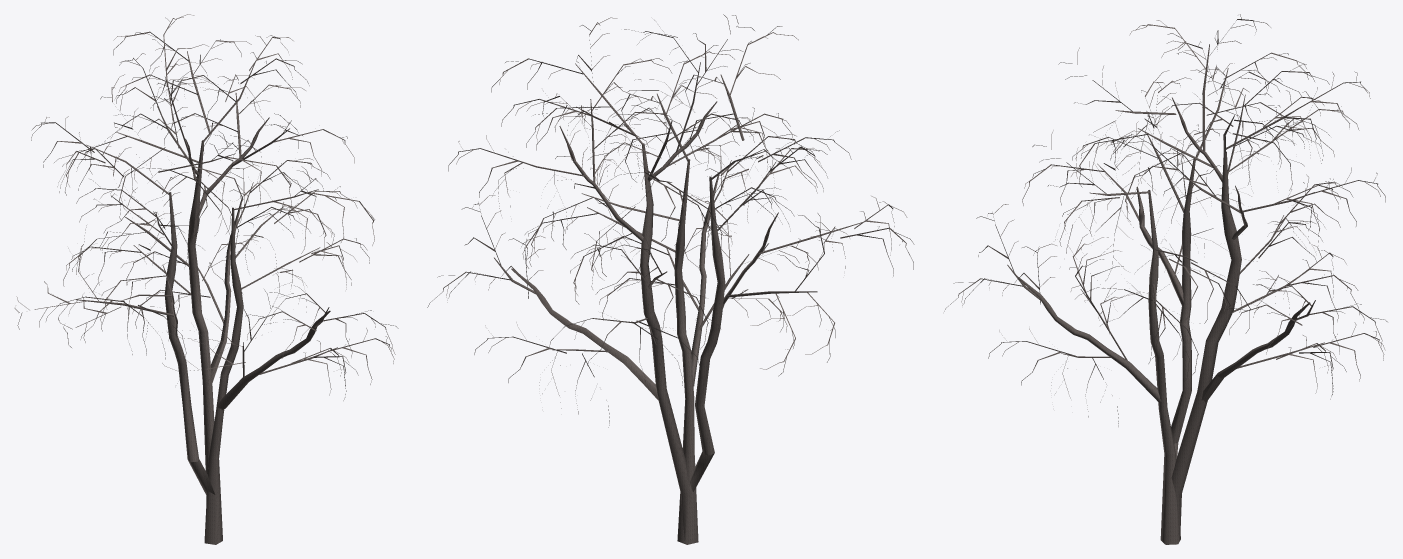
File: tree_branches.obj
The picture shows the model from 3 angles, left to right: view 1: azimuth 30°, elevation 25°; view 2: azimuth 150°, elevation 25°; view 3: azimuth 270°, elevation 25°; orthographic projection. The views are drawn at different scales.
Parts seen in each view (by area): view 1: obj500, obj499, obj501; view 2: obj500, obj501, obj499, obj498; view 3: obj500, obj499, obj501, obj502.
Part boxes in pixels (x1,y1,x2,y2): obj500: [164, 140, 243, 544]; obj499: [217, 310, 330, 409]; obj501: [211, 196, 243, 382]; obj500: [640, 143, 725, 544]; obj501: [511, 268, 659, 401]; obj499: [691, 174, 719, 385]; obj498: [559, 126, 643, 241]; obj500: [1148, 151, 1241, 544]; obj499: [1017, 277, 1161, 402]; obj501: [1201, 302, 1310, 402]; obj502: [1136, 187, 1183, 307].
Bounding box in the file's own units: 22.36 × 31.04 × 23.78.
1 material, 1 textured.
